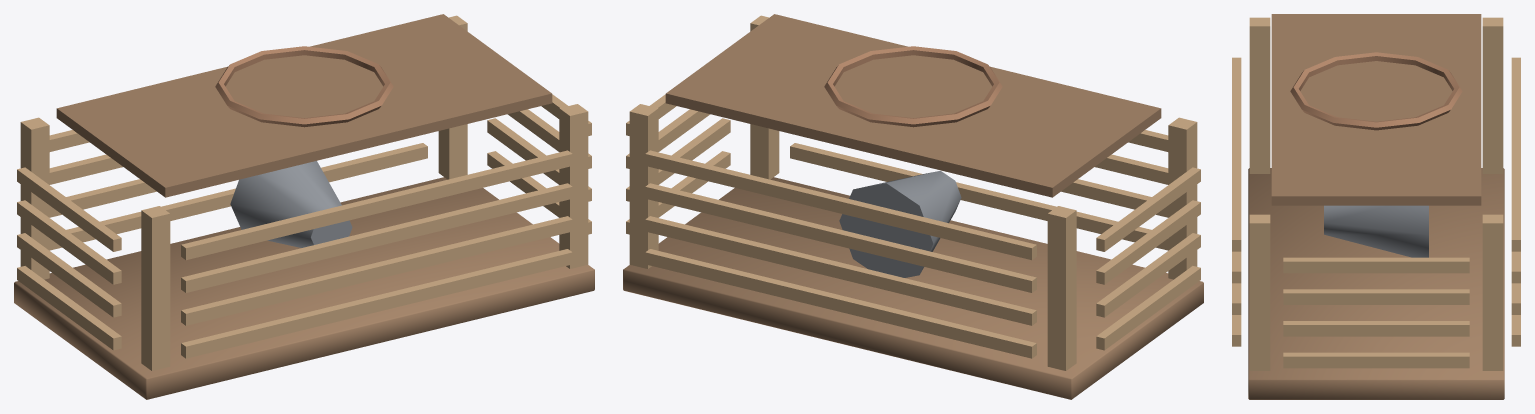
The model's file is LobsterTrap.fbx.
3 views of the same model, side by side, from view 1: azimuth 30°, elevation 25°; view 2: azimuth 150°, elevation 25°; view 3: azimuth 270°, elevation 25° (orthographic). The views are drawn at different scales.
Visible parts, largest first — view 1: LOD0; view 2: LOD0; view 3: LOD0.
Part boxes in pixels (x1,y1,x2,y2): LOD0: (14,14,594,399); LOD0: (623,14,1203,399); LOD0: (1232,14,1520,399).
Size of what is drawn, in the model's own units: 91.6 by 39.26 by 49.6.
